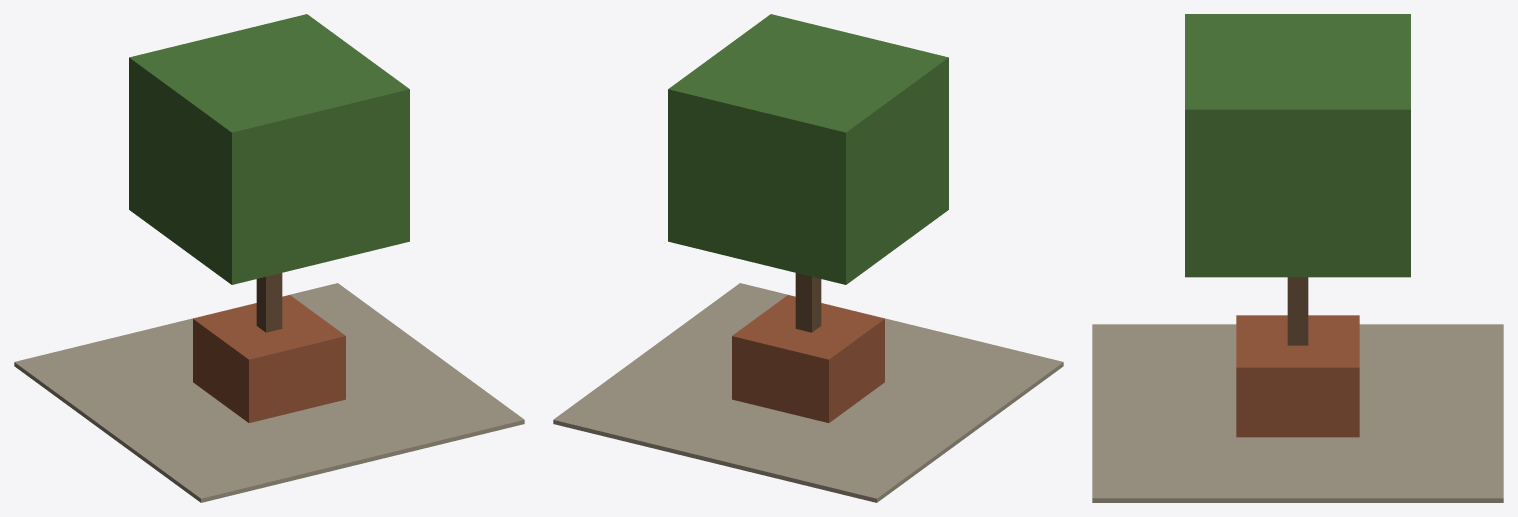
File: tree-pot.glb
3 renders of one model, left to right at view 1: azimuth 30°, elevation 25°; view 2: azimuth 150°, elevation 25°; view 3: azimuth 270°, elevation 25°, orthographic. The views are drawn at different scales.
Visible parts, largest first — view 1: tree-pot; view 2: tree-pot; view 3: tree-pot.
Part boxes in pixels (x1,y1,x2,y2): tree-pot: [14, 14, 524, 502]; tree-pot: [553, 14, 1063, 502]; tree-pot: [1092, 14, 1503, 502].
Size of the model in its own units: 4 by 3.8 by 4.
